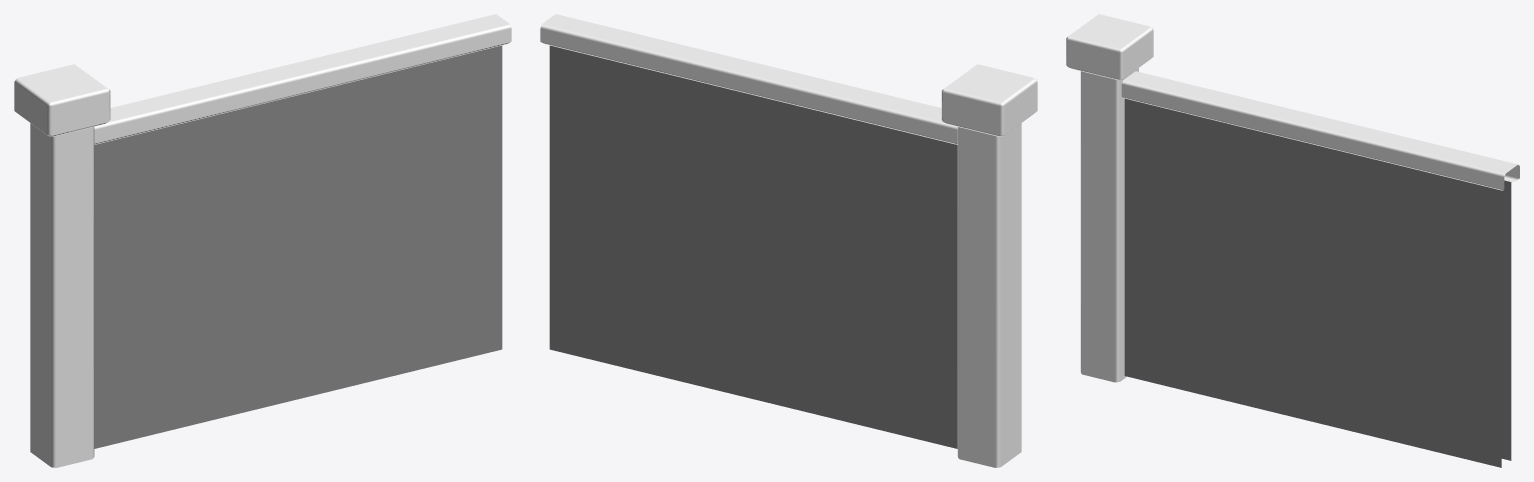
The model's file is Wall.fbx.
3 views of the same model, side by side, from view 1: azimuth 30°, elevation 25°; view 2: azimuth 150°, elevation 25°; view 3: azimuth 330°, elevation 25° (orthographic). The views are drawn at different scales.
Parts seen in each view (by area): view 1: Wall; view 2: Wall; view 3: Wall.
Boxes of the visible parts, x1,y1,x2,y2 form: Wall: [14, 14, 511, 467]; Wall: [540, 14, 1037, 467]; Wall: [1066, 14, 1519, 467].
Bounding box in the file's own units: 777 × 584 × 104.
